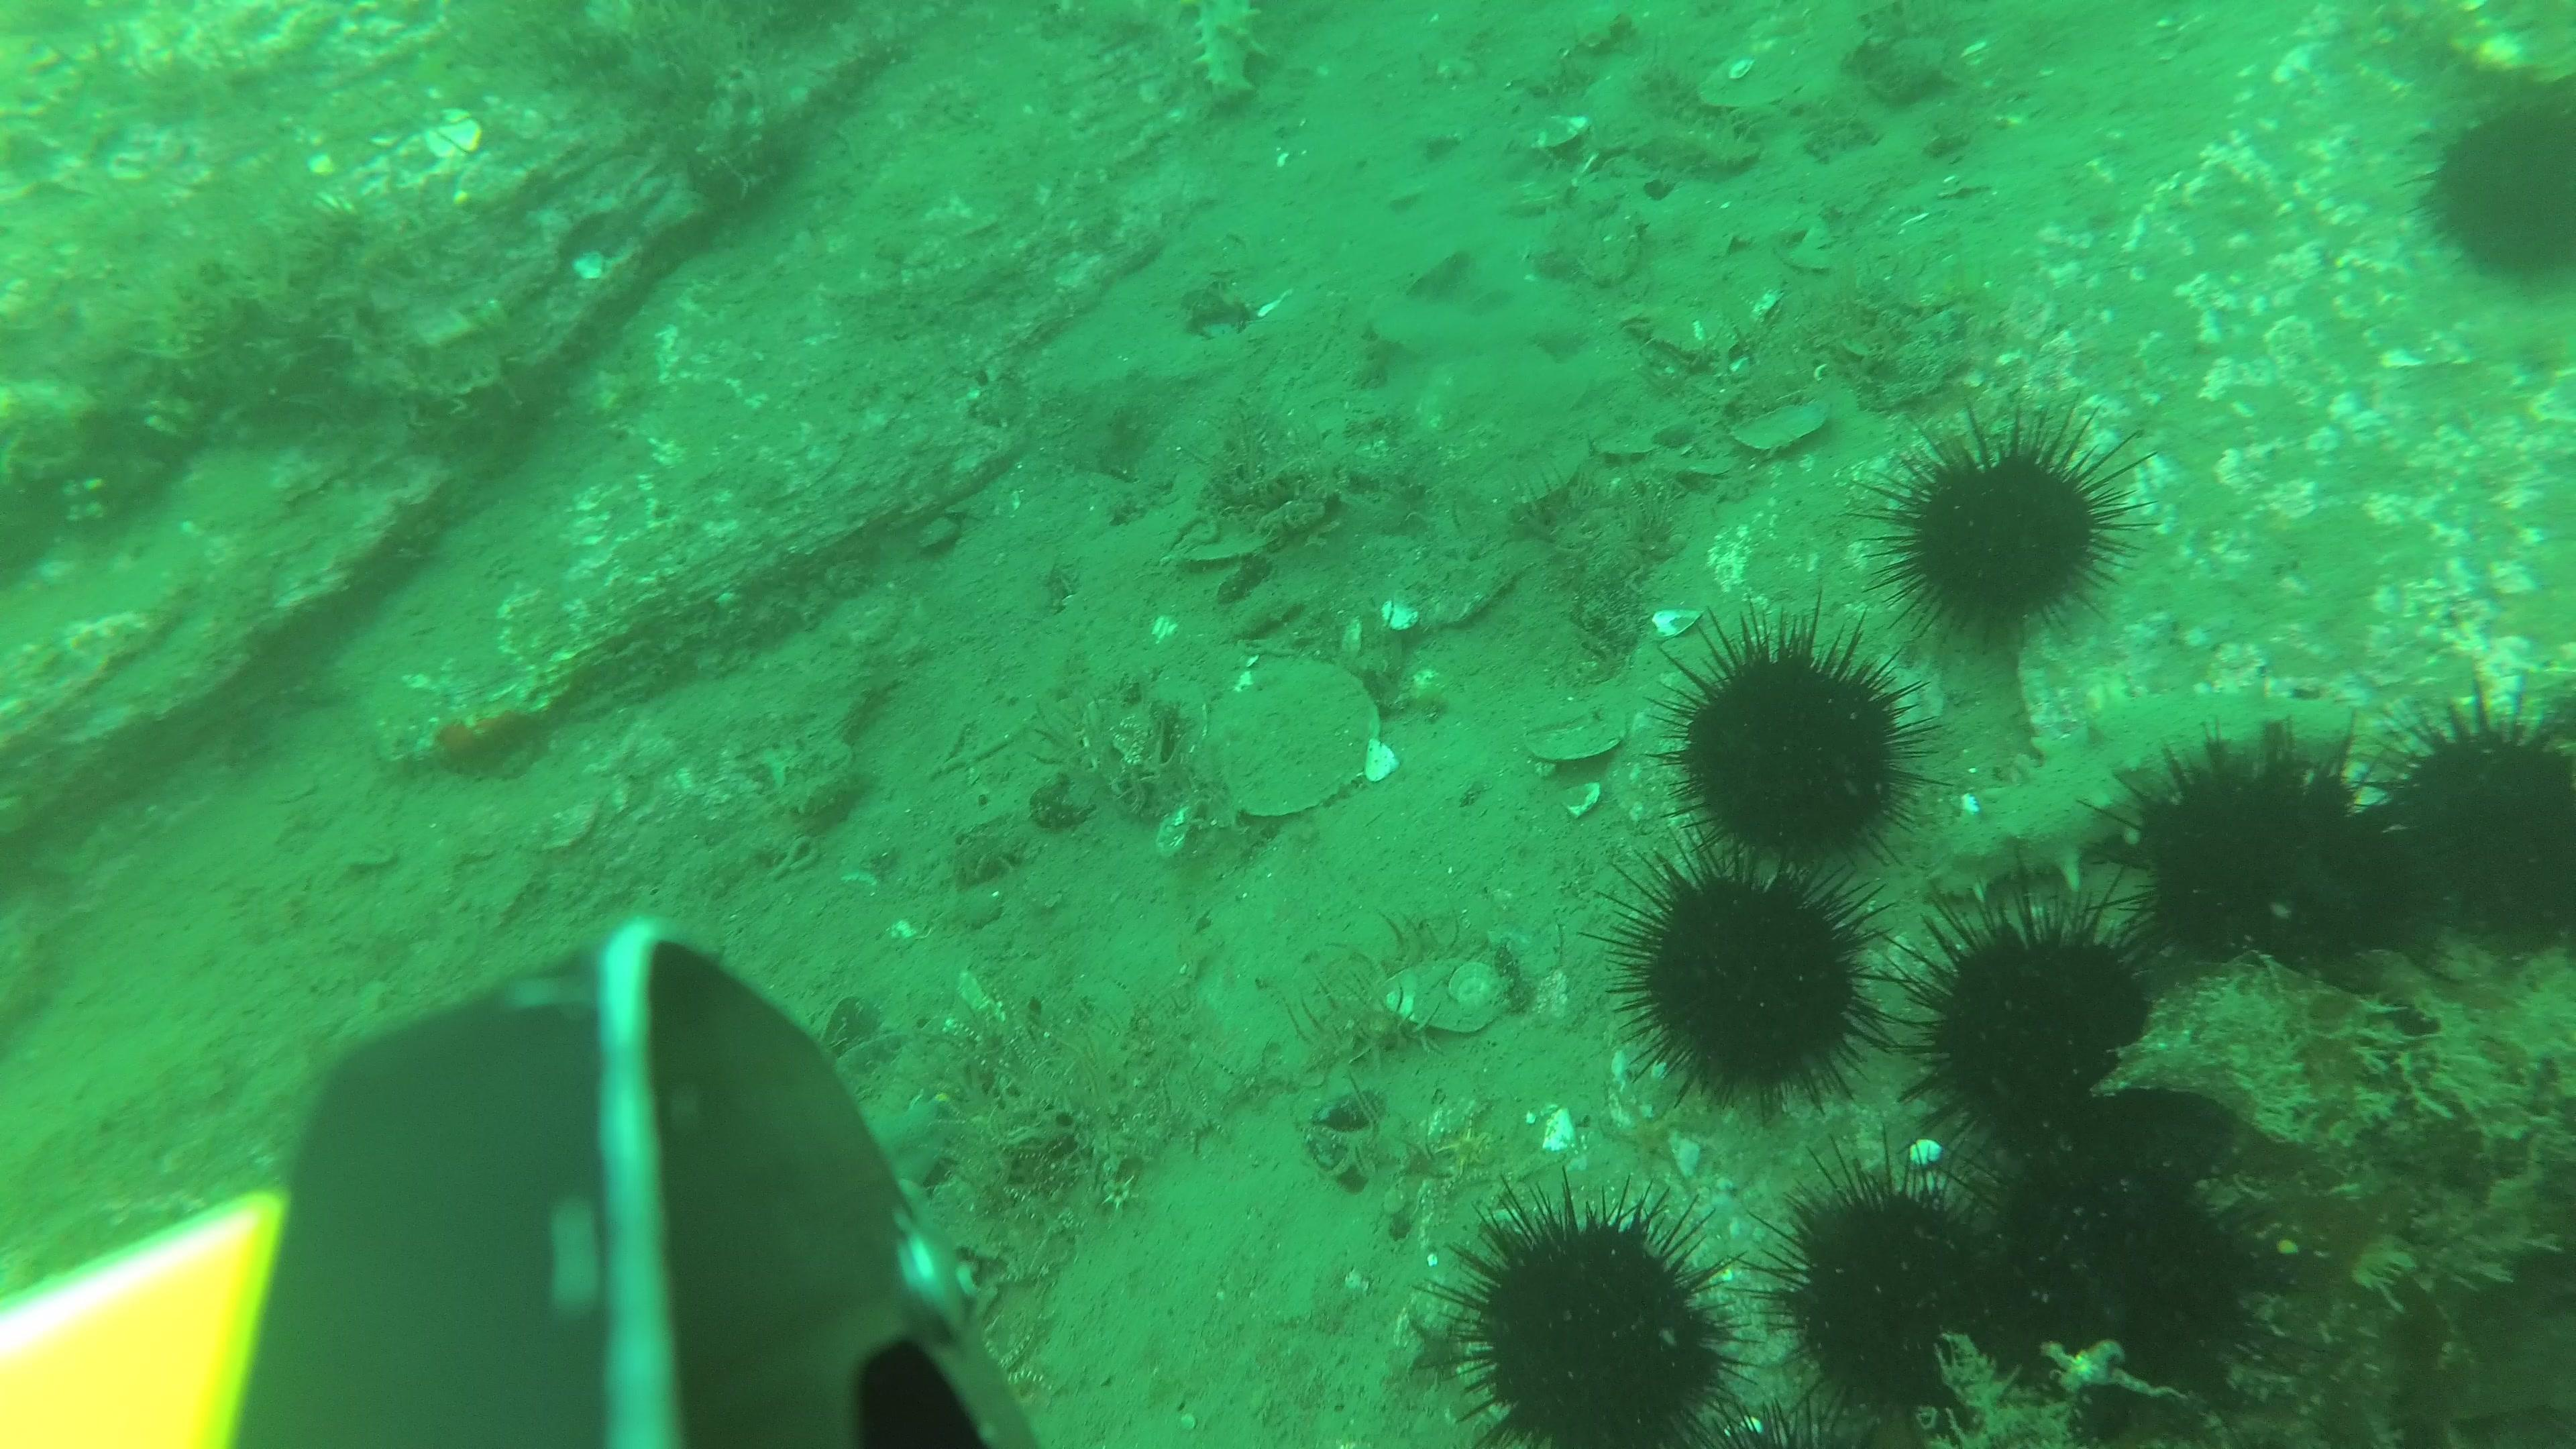echinus: (1599, 826, 1893, 1132), (1435, 1177, 1741, 1449), (1966, 1132, 2259, 1415), (1895, 869, 2166, 1161), (1858, 389, 2153, 651), (1752, 1136, 2006, 1430), (1658, 593, 1934, 858), (2125, 727, 2396, 996), (2371, 681, 2576, 975), (2420, 99, 2576, 280), (1709, 1396, 1898, 1449)
holothurian: (1930, 685, 2358, 899), (1189, 0, 1265, 103)
scallop: (1214, 665, 1387, 824), (1387, 952, 1516, 1033), (1530, 709, 1629, 766)
